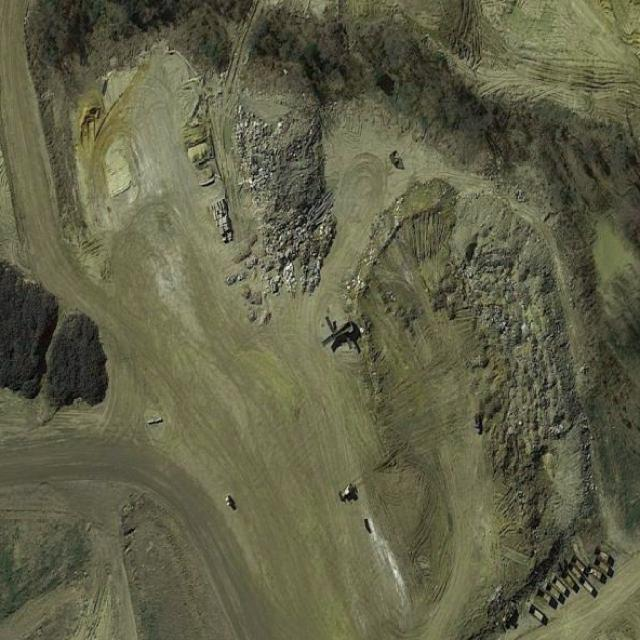dump_site: (224, 100, 340, 299)
